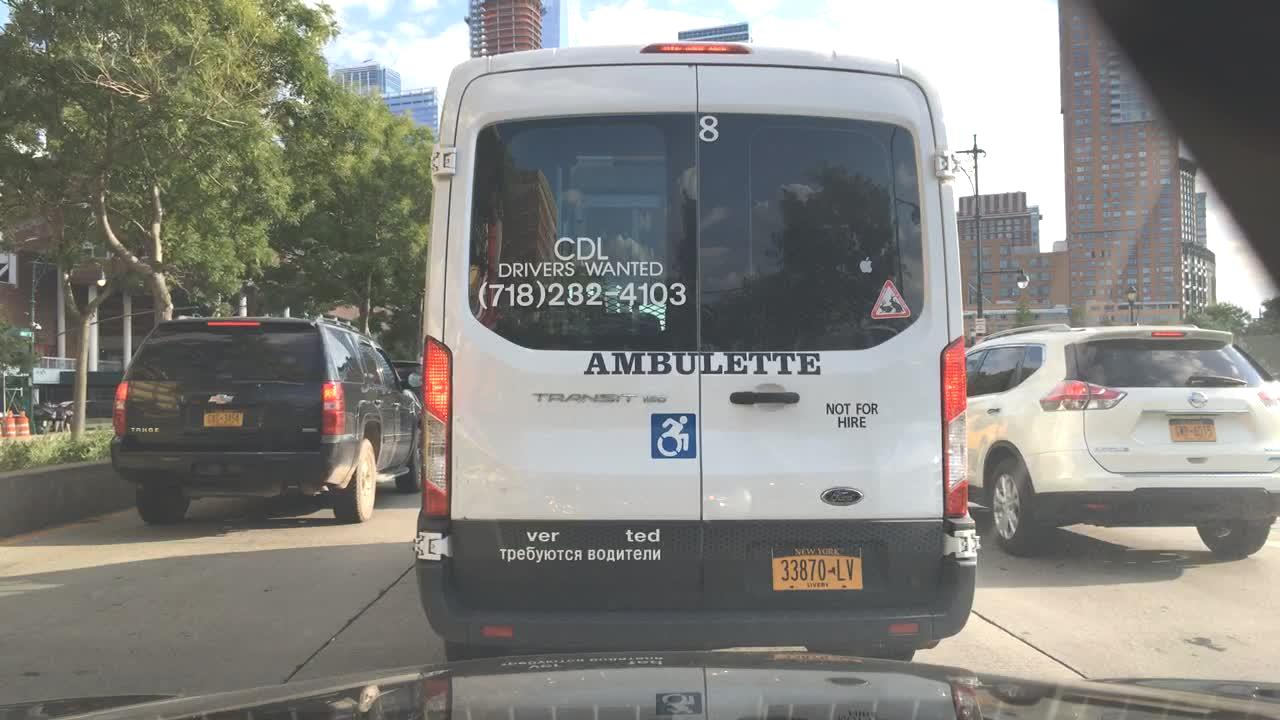Nissan: (1178, 386, 1218, 413)
chevrolet: (195, 382, 247, 410)
ford: (817, 481, 870, 516)
